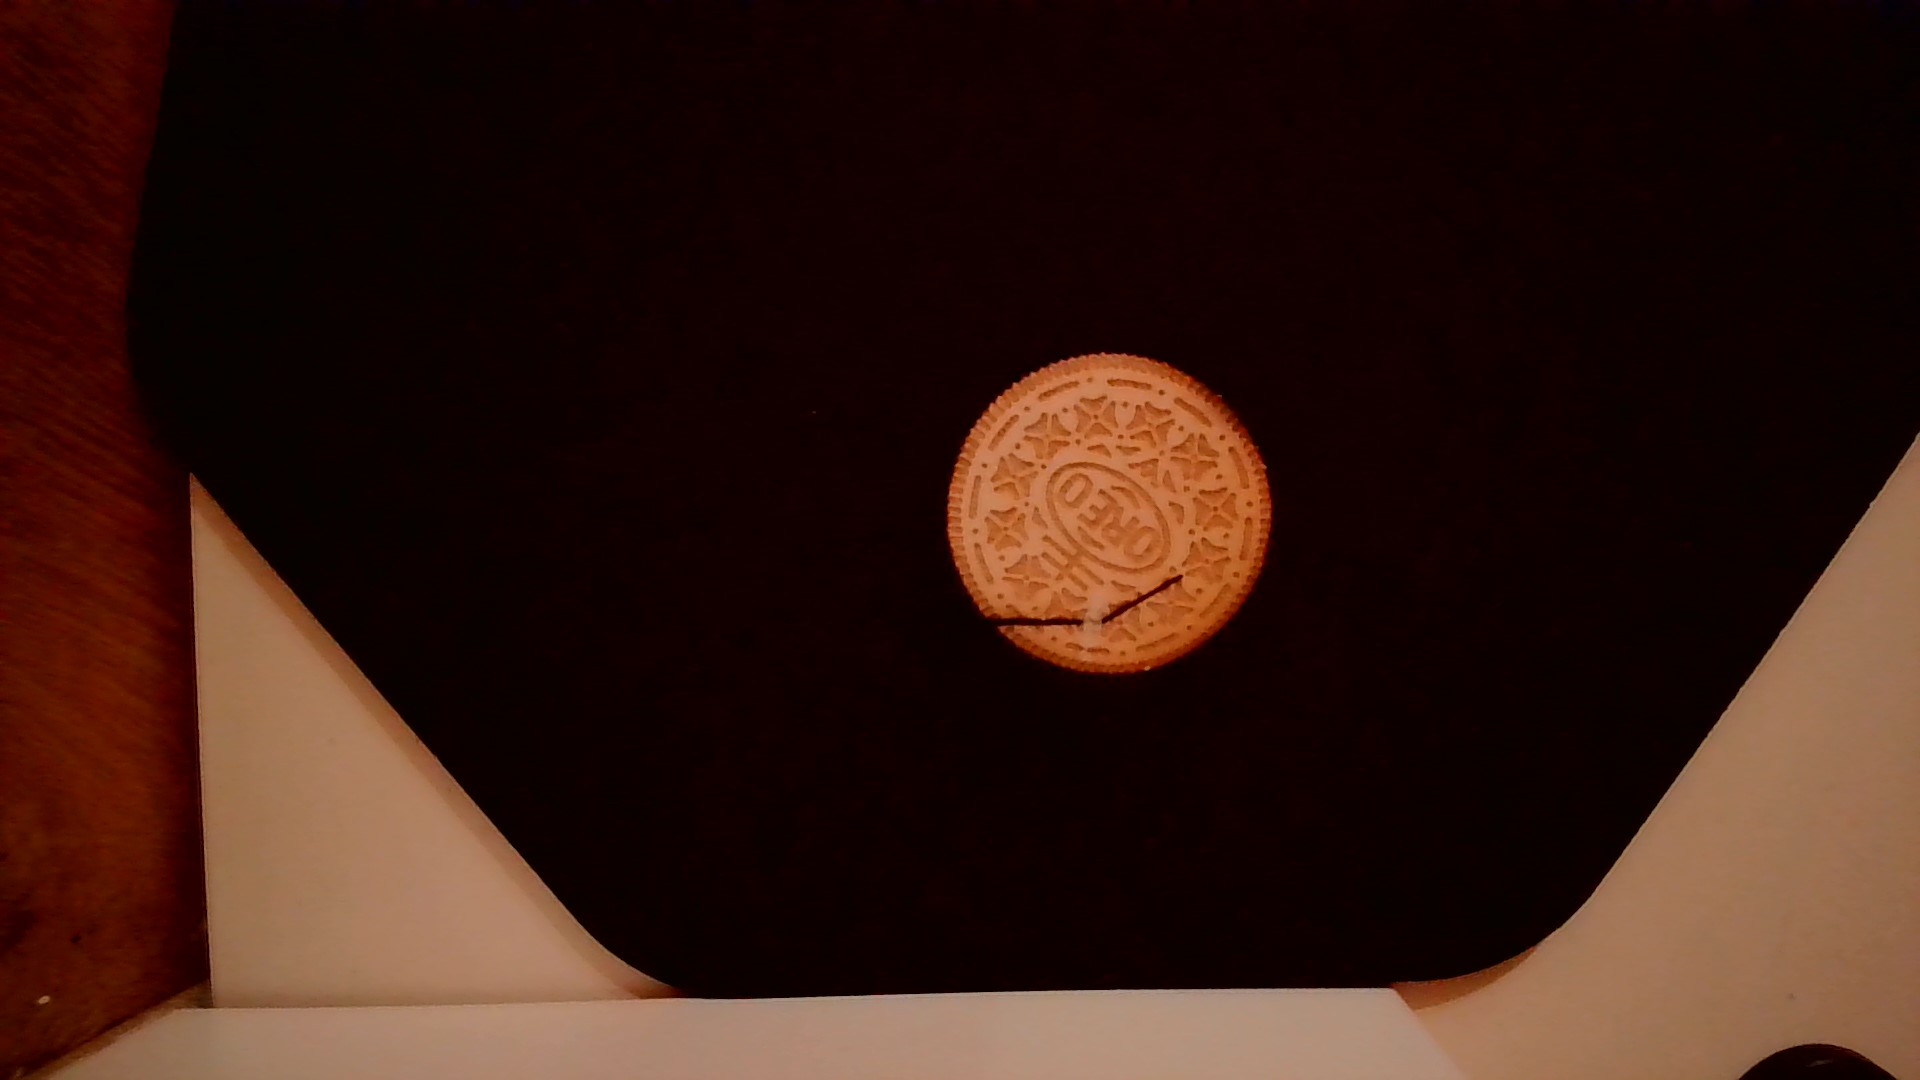Fissure: (982, 556, 1187, 638)
Oréo: (938, 342, 1280, 686)
